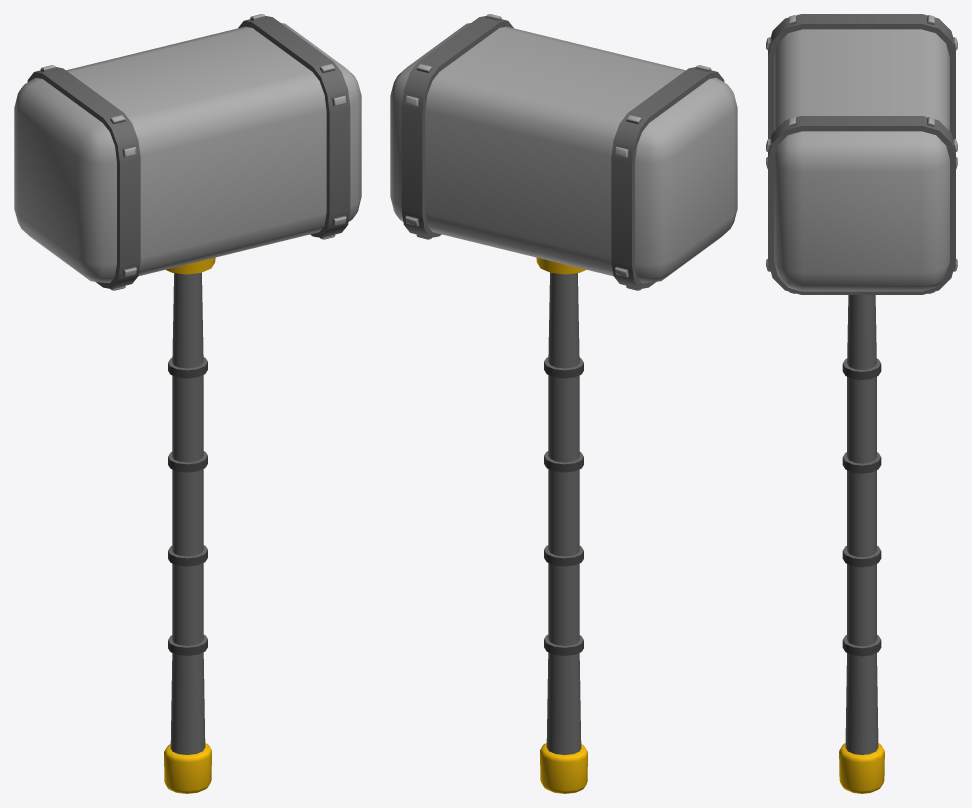
Rendered from Warhammer_3.fbx.
The picture shows the model from 3 angles, left to right: view 1: azimuth 30°, elevation 25°; view 2: azimuth 150°, elevation 25°; view 3: azimuth 270°, elevation 25°; orthographic projection.
Parts seen in each view (by area): view 1: Warhammer_3; view 2: Warhammer_3; view 3: Warhammer_3.
Part boxes in pixels (x1,y1,x2,y2): Warhammer_3: (14,14,361,793); Warhammer_3: (390,14,737,793); Warhammer_3: (766,14,957,793).
Bounding box in the file's own units: 0.1577 × 0.3885 × 0.0941.
